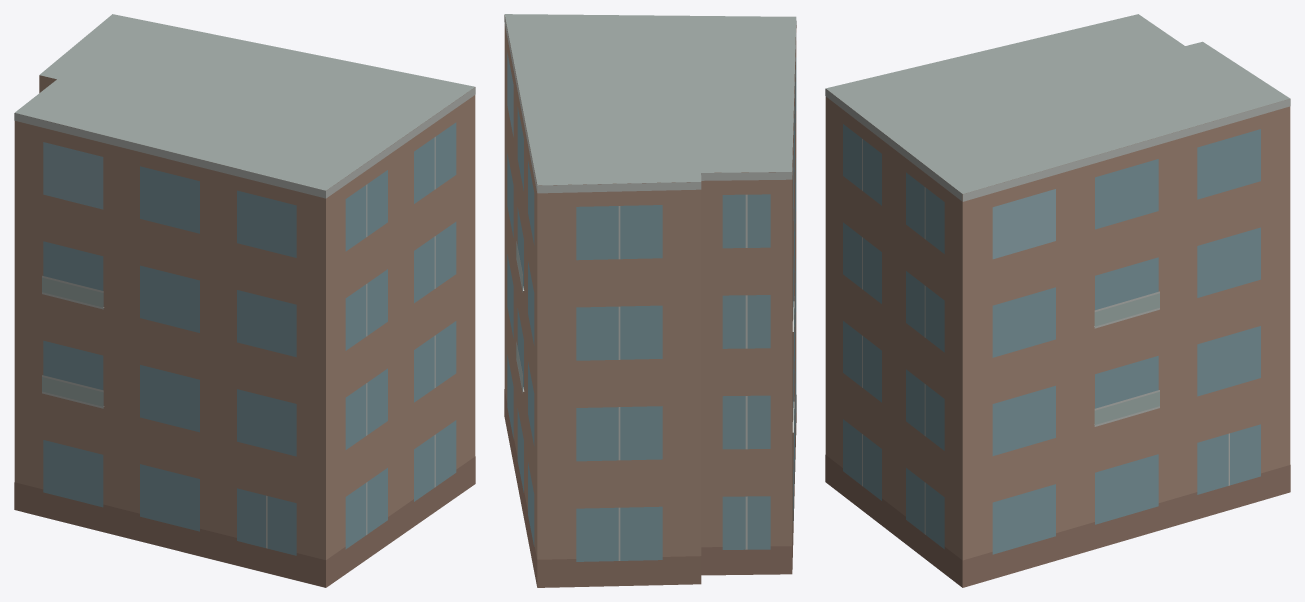
Rendered from survey-upis-32940634.glb.
The picture shows the model from 3 angles, left to right: view 1: azimuth 30°, elevation 25°; view 2: azimuth 150°, elevation 25°; view 3: azimuth 270°, elevation 25°; orthographic projection. The views are drawn at different scales.
Visible parts, largest first — view 1: survey-upis-32940634.tmp; view 2: survey-upis-32940634.tmp; view 3: survey-upis-32940634.tmp.
Part boxes in pixels (x1,y1,x2,y2): survey-upis-32940634.tmp: (14,14,475,587); survey-upis-32940634.tmp: (504,14,796,587); survey-upis-32940634.tmp: (825,14,1290,587).
Size of the model in its own units: 12.18 by 12.4 by 13.28.
